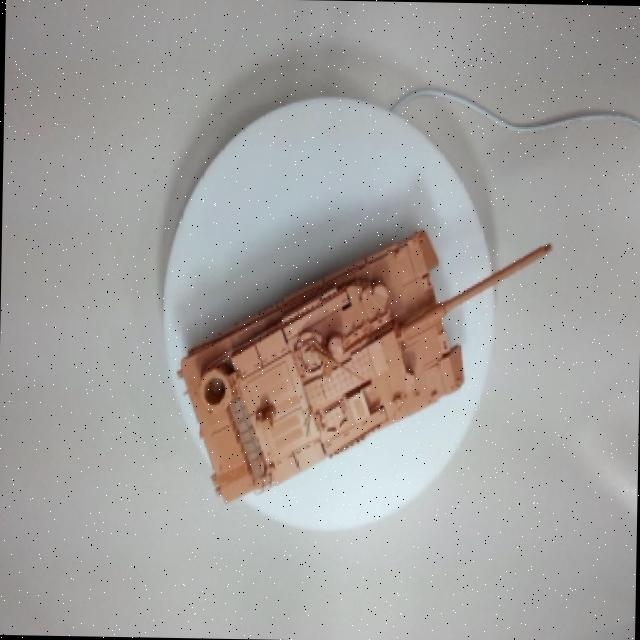korea tank: (131, 198, 559, 521)
